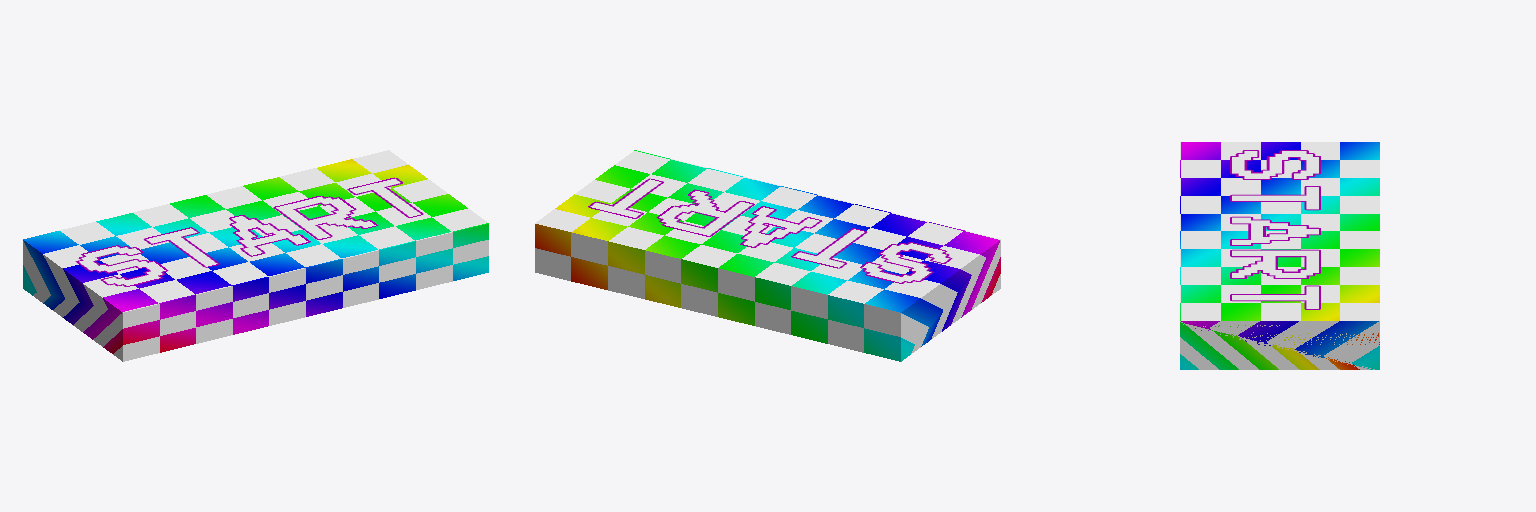
3 views of the same model, side by side, from view 1: azimuth 30°, elevation 25°; view 2: azimuth 150°, elevation 25°; view 3: azimuth 270°, elevation 25° (orthographic).
Visible parts, largest first — view 1: Cube; view 2: Cube; view 3: Cube.
Boxes of the visible parts, box(x1,y1,x2,y2) form: Cube: box(23, 150, 488, 361); Cube: box(535, 150, 1000, 361); Cube: box(1180, 142, 1379, 369).
Size of the model in its own units: 40 by 5.13 by 18.96.
1 materials, 1 textured.